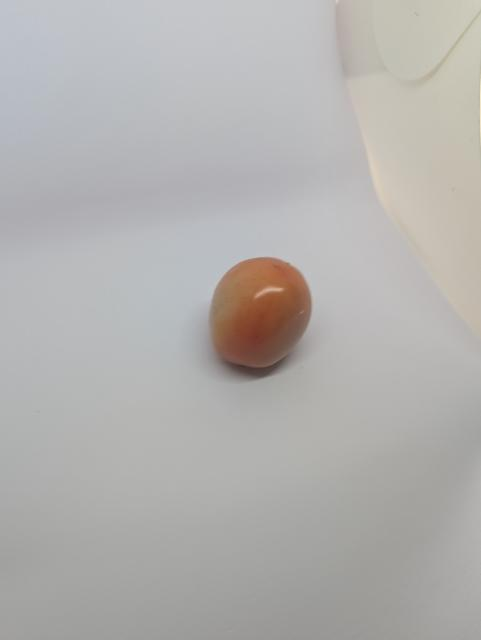turning: (205, 253, 318, 376)
